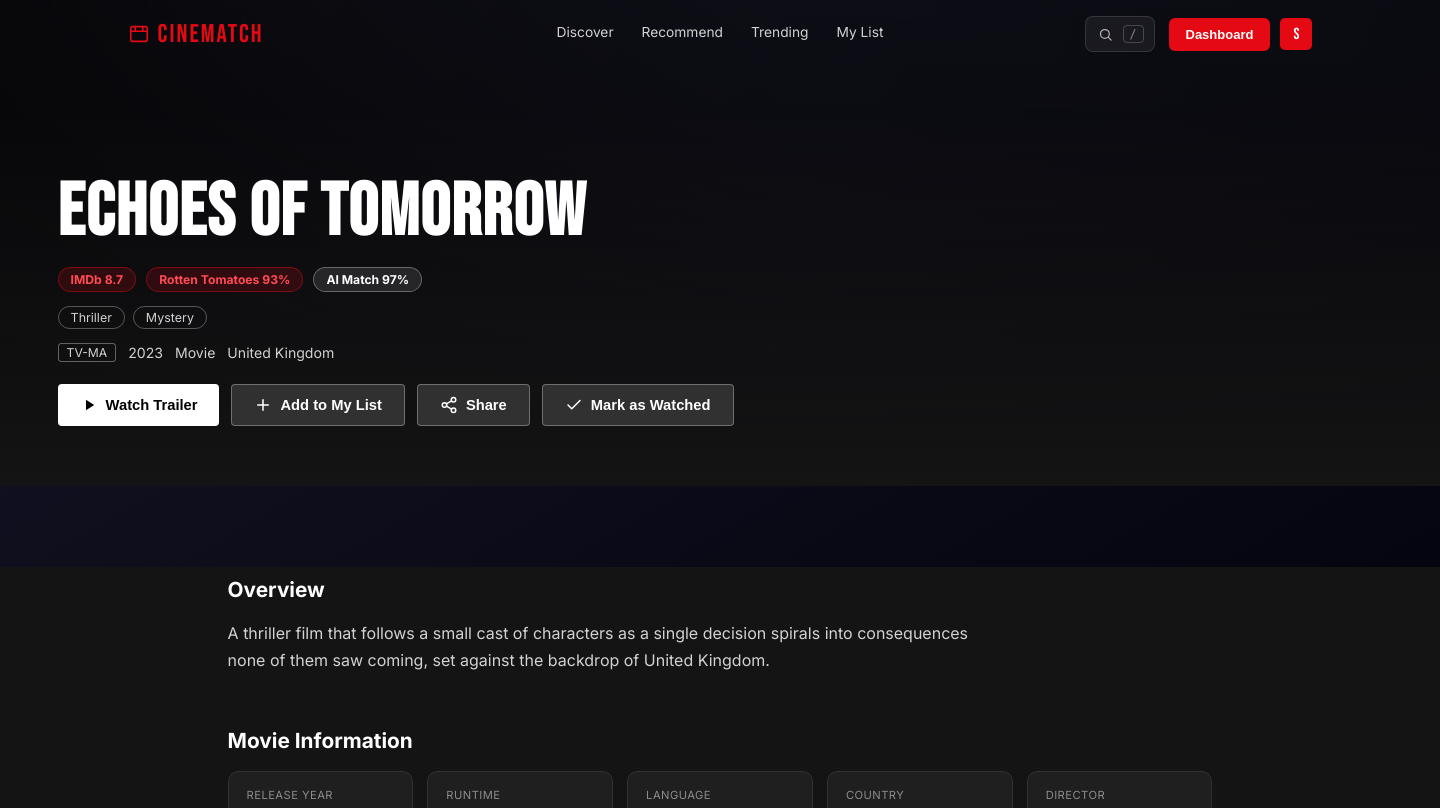
Scenario: Authenticated user — Favorites & Watch History › marks a title as watched — persists correctly and shows on History page
(page scrolled)
Check: the heading "Echoes of Tomorrow" is shown, box [58,169,587,257]
Click the button "Mark as Watched" at (638, 405), box [542,384,734,426]
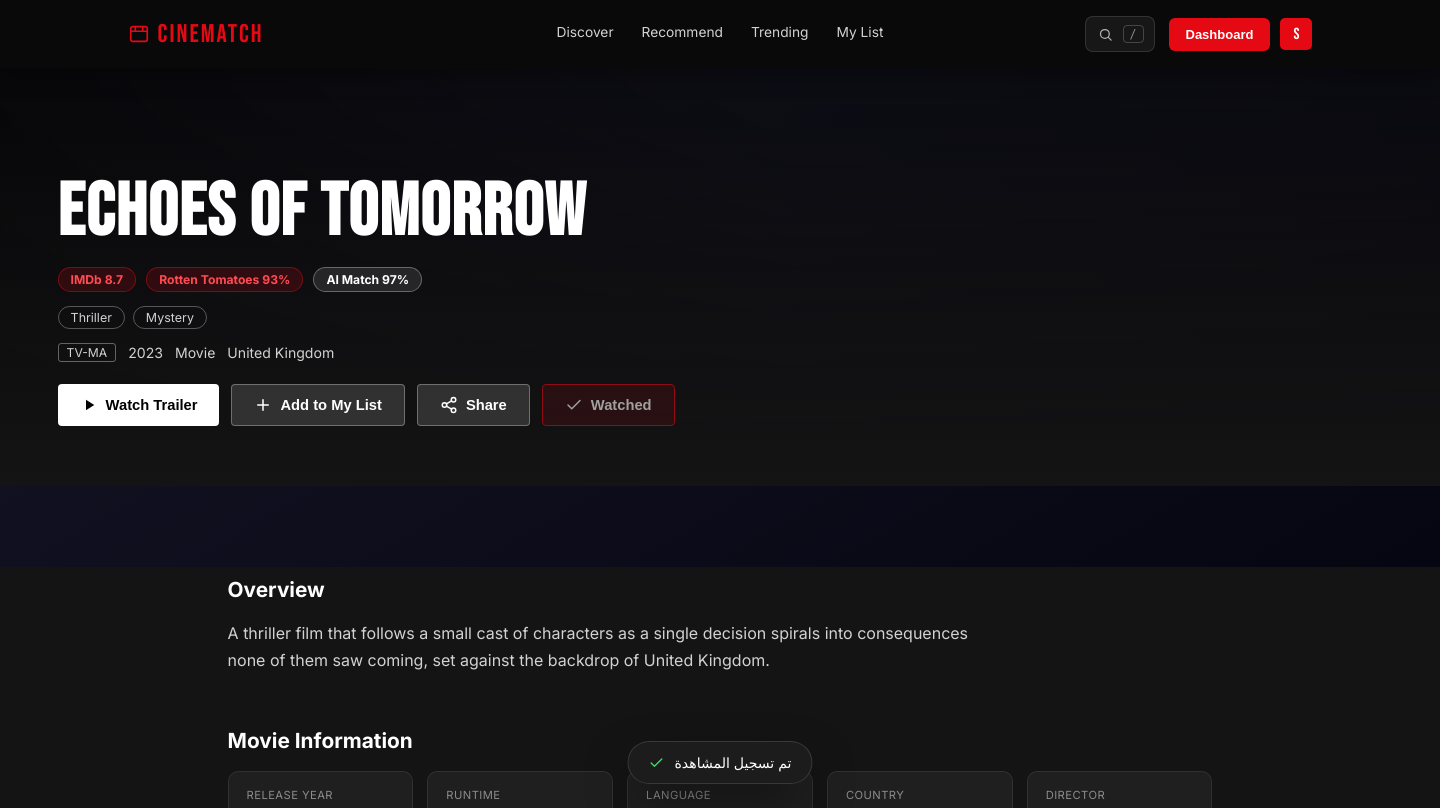
Check: the heading "Echoes of Tomorrow" is shown, box [58,177,675,251]
Check: the button "Watched" is shown, box [542,384,675,426]
